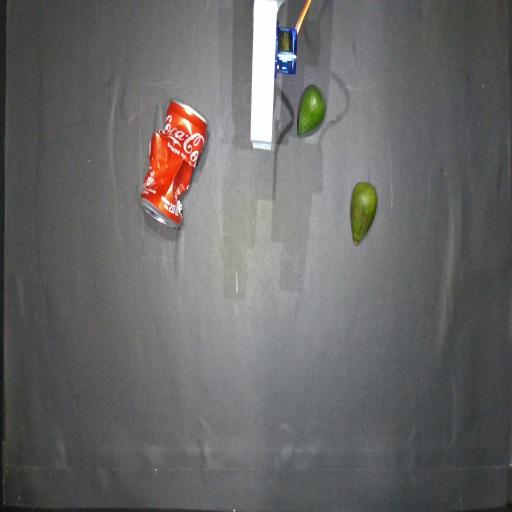higo: (350, 182, 377, 244), (297, 85, 326, 136)
lata_defectuoso: (141, 101, 207, 228)
